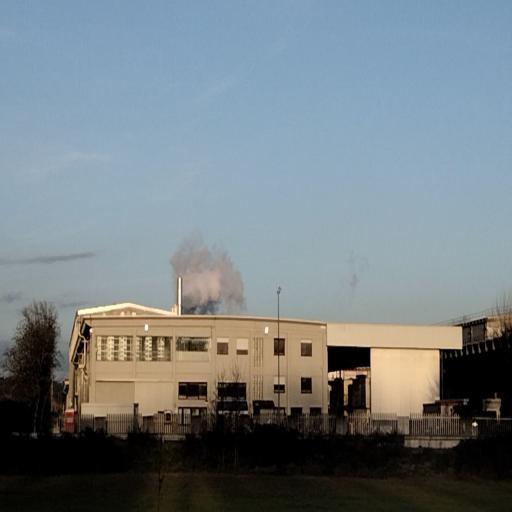leakage: (171, 232, 250, 317)
